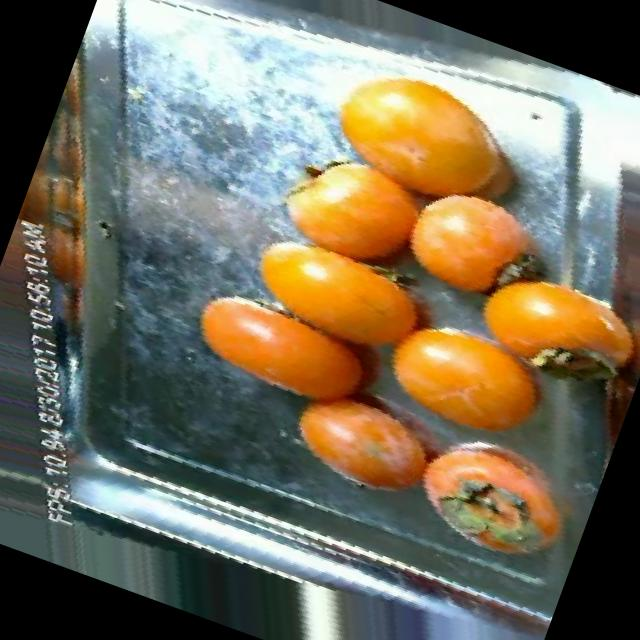Fruit: (260, 368, 466, 532), (451, 238, 640, 401), (382, 166, 556, 320), (172, 266, 338, 398)
